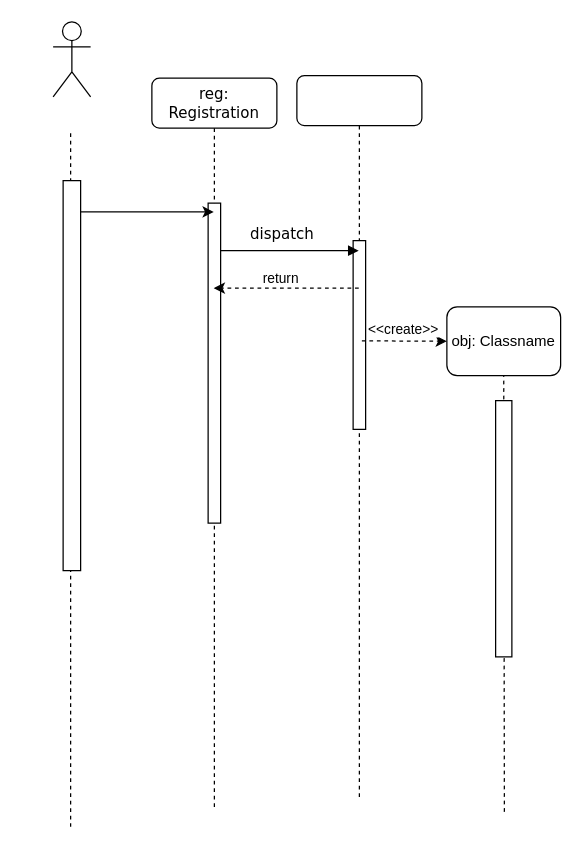
Image size: 583x850. Some labels were removed from this diagram. Each missing label, with the centre of its shape:
Maple: Student: the point at 71,59
r: Receiver: the point at 359,437
